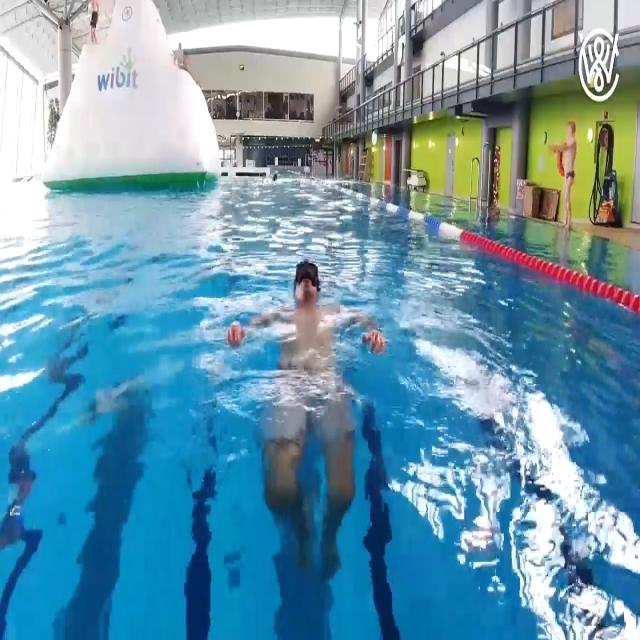Swimming: (282, 261, 340, 351)
